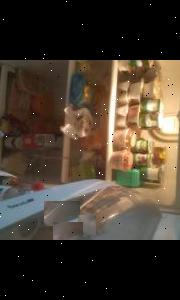Huevos: (43, 201, 78, 226), (52, 222, 82, 240), (76, 216, 94, 236)
Leche: (20, 134, 61, 150)
Yogur: (138, 112, 160, 128), (140, 100, 160, 112)
